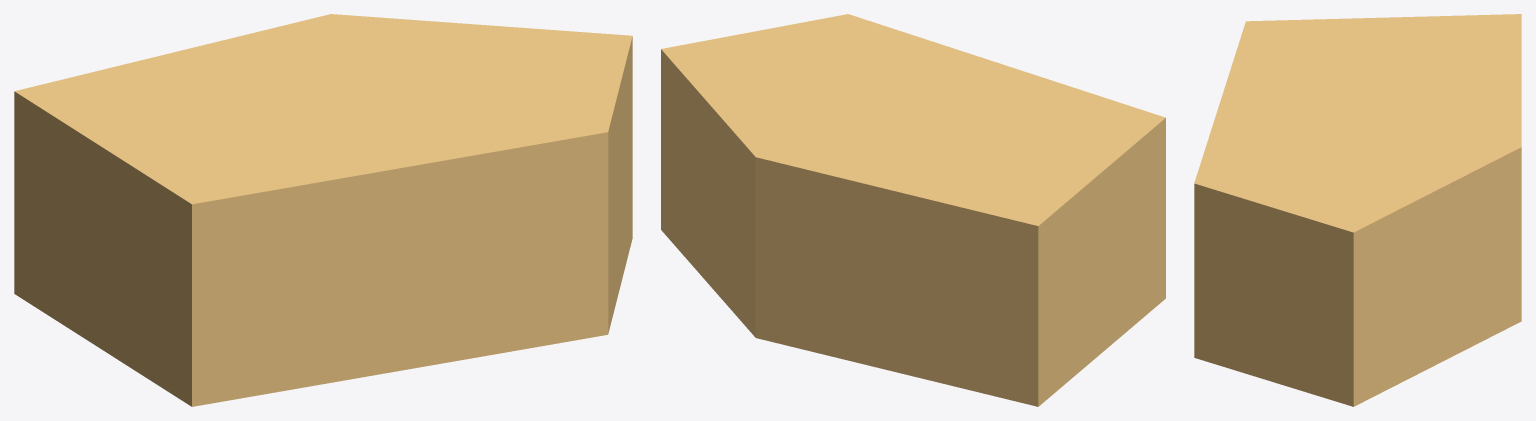
Rendered from flat_rock_6.fbx.
3 views of the same model, side by side, from view 1: azimuth 30°, elevation 25°; view 2: azimuth 150°, elevation 25°; view 3: azimuth 270°, elevation 25° (orthographic). The views are drawn at different scales.
Visible parts, largest first — view 1: flat_rock_6; view 2: flat_rock_6; view 3: flat_rock_6.
Boxes of the visible parts, <box> form: flat_rock_6: <box>14,14,632,406</box>; flat_rock_6: <box>661,14,1165,406</box>; flat_rock_6: <box>1194,14,1521,406</box>.
Size of the model in its own units: 70.61 by 26.26 by 44.72.
